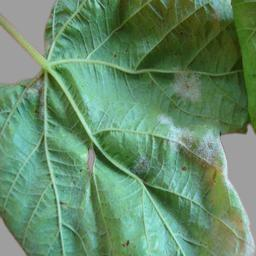Powdery-Mildew: (207, 168, 253, 254), (159, 116, 225, 169), (131, 153, 181, 193), (14, 74, 50, 126), (168, 66, 202, 101), (196, 130, 221, 166)
